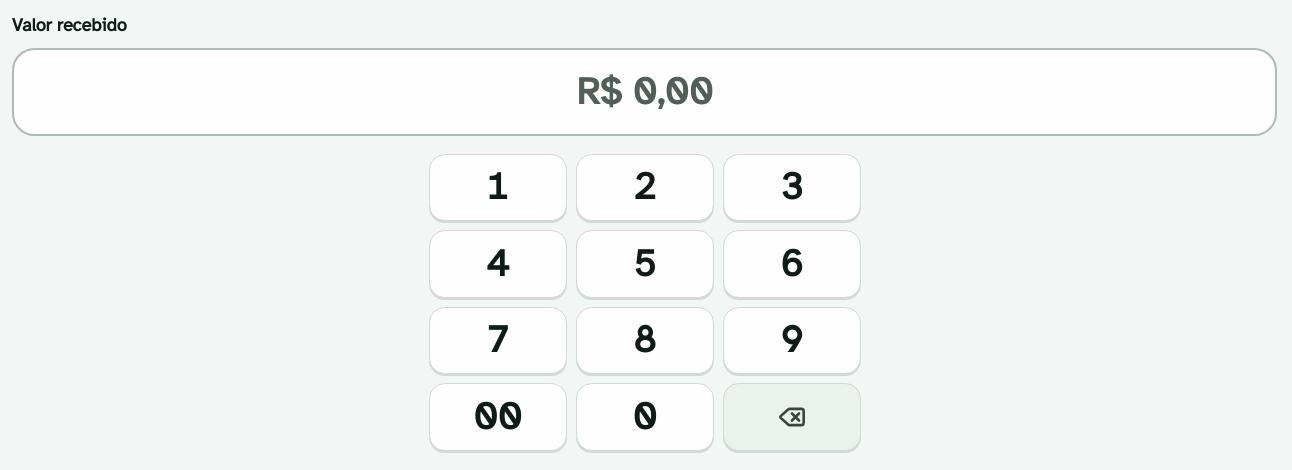
Test: MoneyInput › funciona com o teclado numérico próprio
What coordinates should you click on to do the following:
click the button "5"
I would click on:
 (644, 264)
Its box is top-left (576, 230), bottom-right (714, 298).
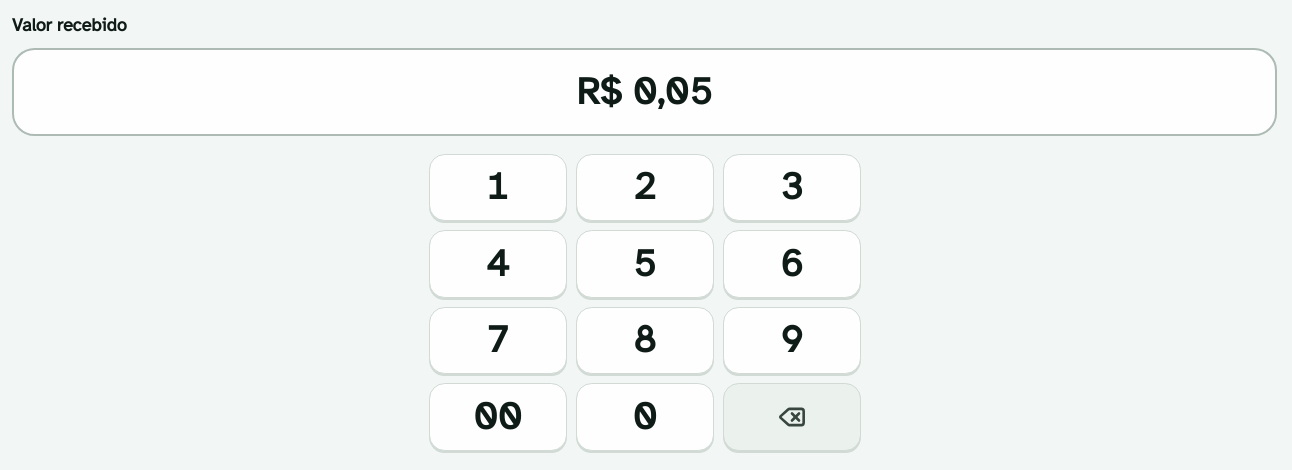
What coordinates should you click on to do the following:
click the button "00"
I would click on:
 (498, 417)
Its box is top-left (428, 383), bottom-right (566, 451).
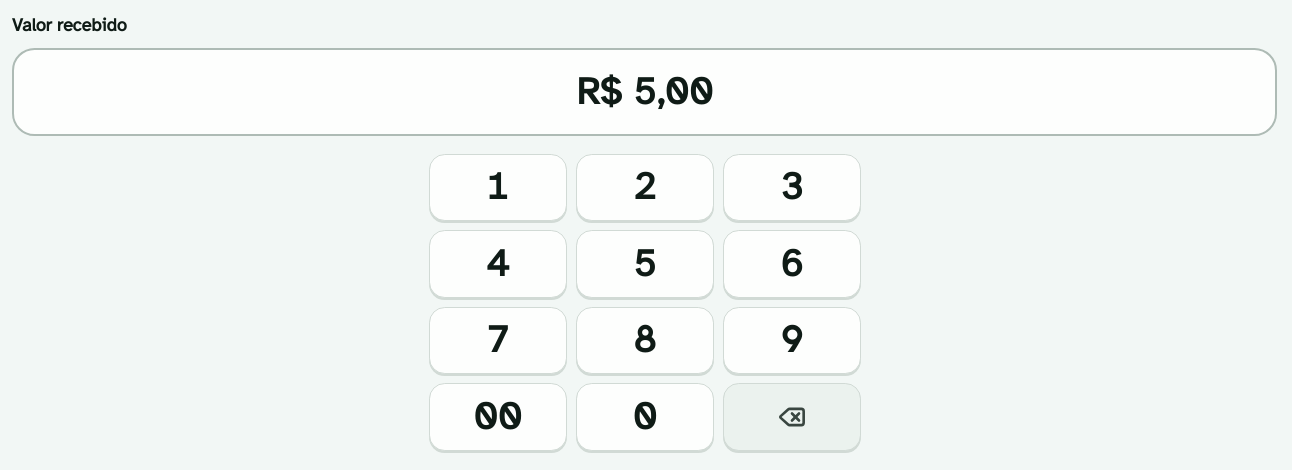
What coordinates should you click on to do the following:
click the button "0"
I would click on:
 (644, 417)
Its box is top-left (576, 383), bottom-right (714, 451).
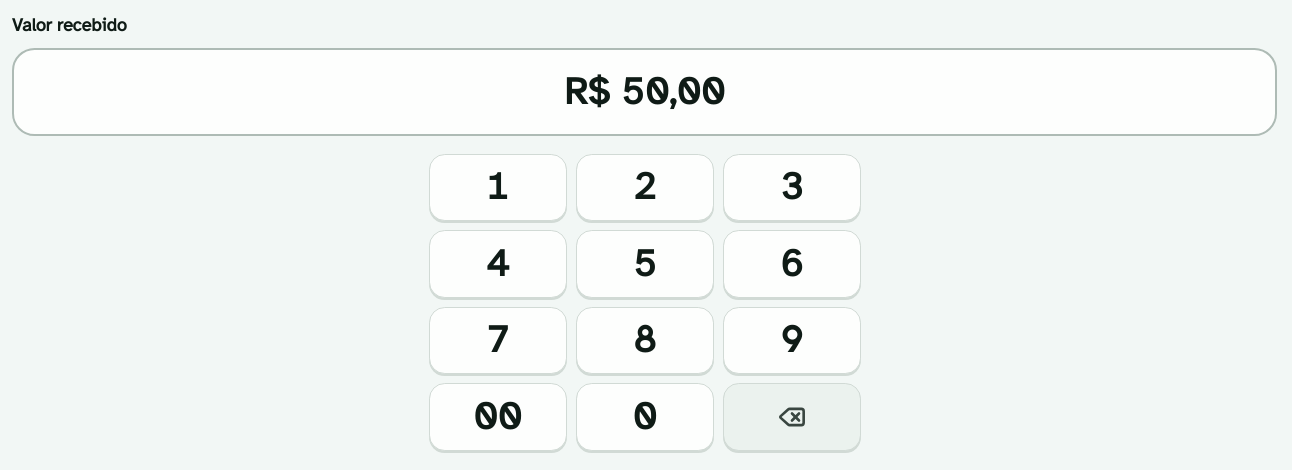
Expected: the field labelled "Valor recebido" holds "R$ 50,00", top-left (12, 48), bottom-right (1277, 136)
What coordinates should you click on to do the following:
click the button named "apagar"
I would click on:
 (792, 417)
Its box is top-left (722, 383), bottom-right (860, 451).
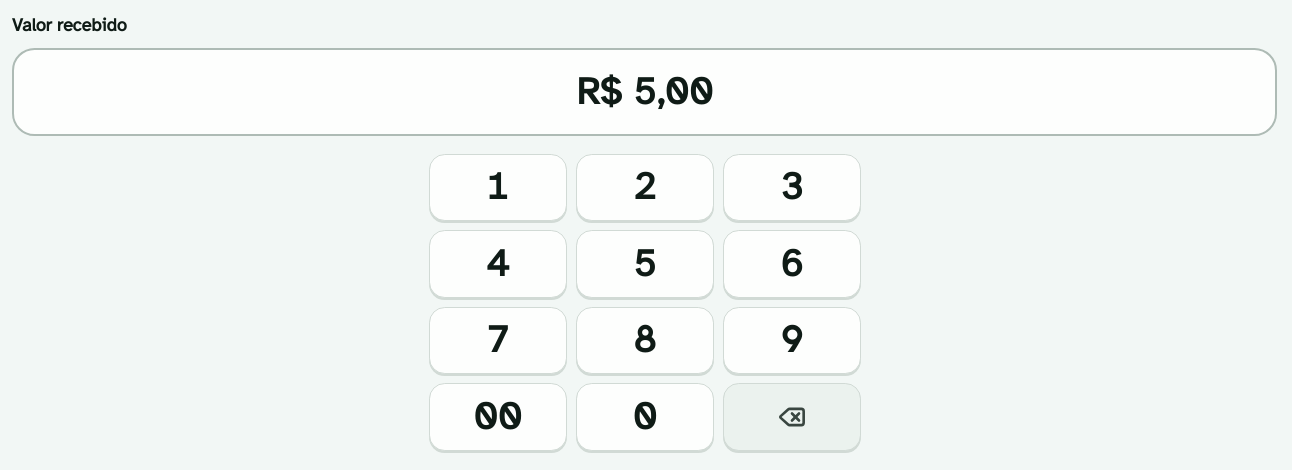
Expected: the field labelled "Valor recebido" holds "R$ 5,00", top-left (12, 48), bottom-right (1277, 136)
